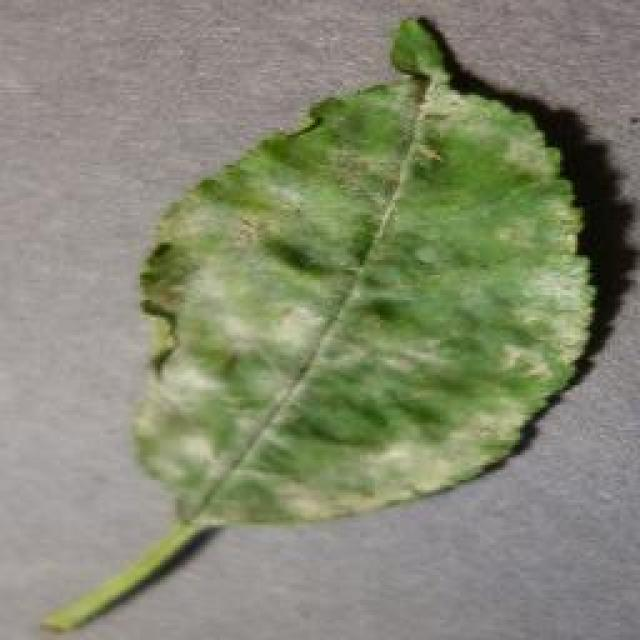Cherry___Powdery_mildew: (15, 5, 615, 640)
